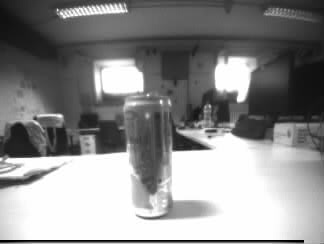Tin can: (120, 92, 177, 220)
